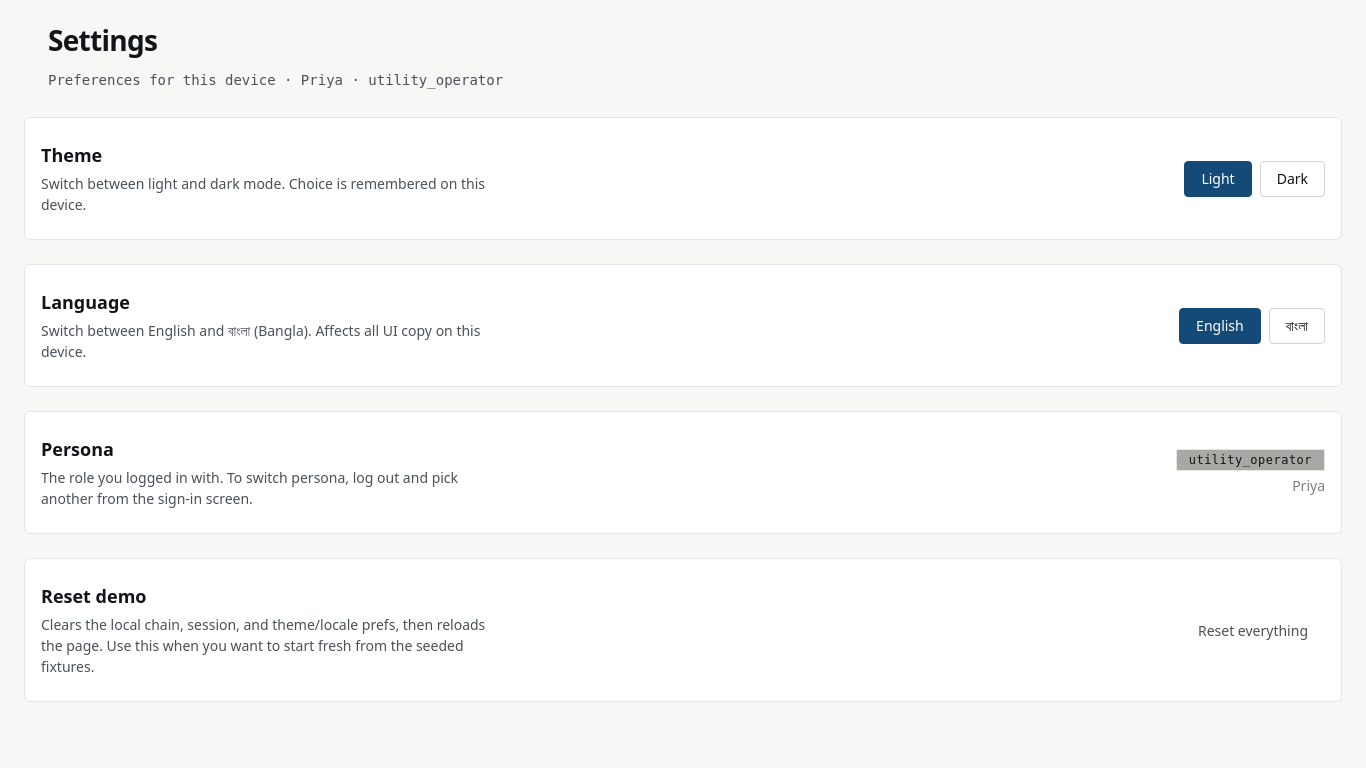
Test: FE-B6 Settings reset confirm-modal › clicking_reset_button_opens_confirm_modal_without_firing_post
What coordinates should you click on to do the following:
click the button with test id "settings-reset-button"
I would click on:
 (1253, 630)
Its box is x1=1181 y1=612 x2=1325 y2=648.
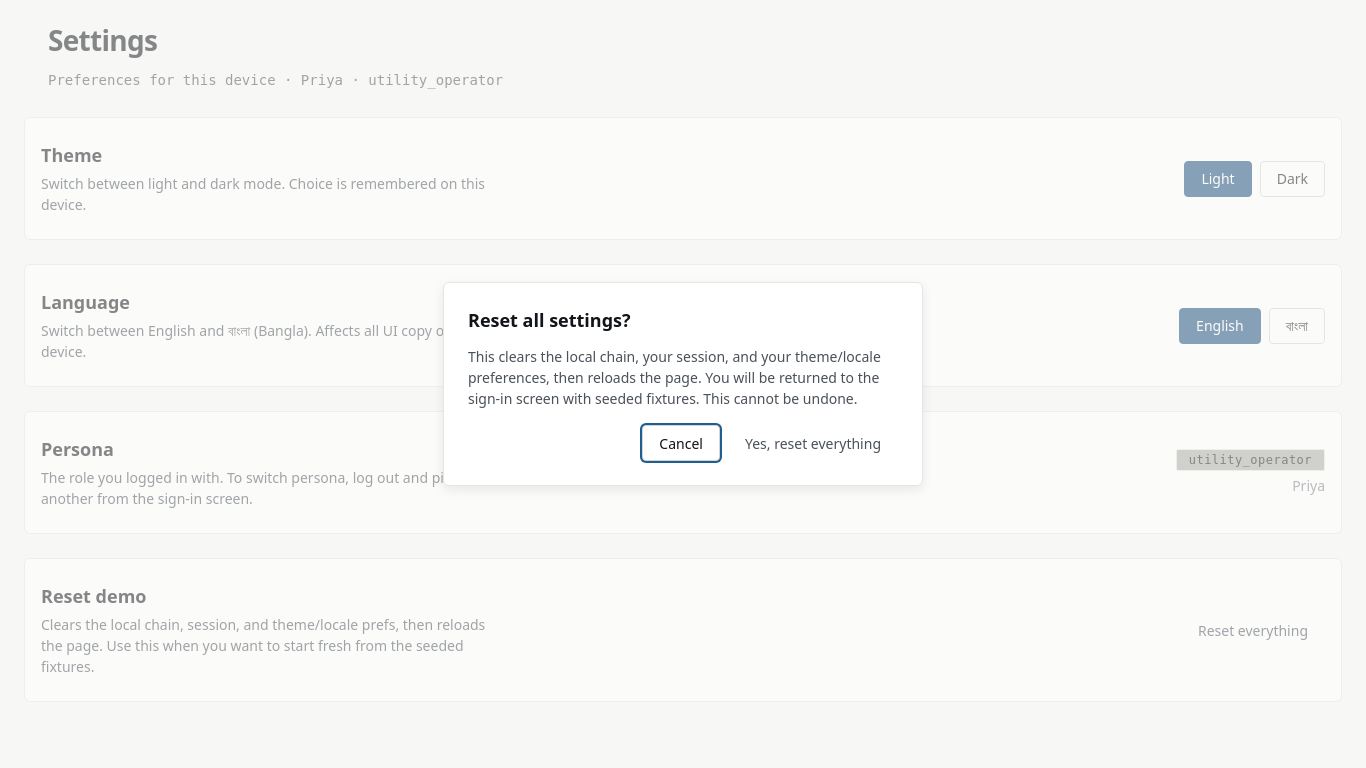
Expected: the element with test id "settings-reset-confirm-modal" is shown
